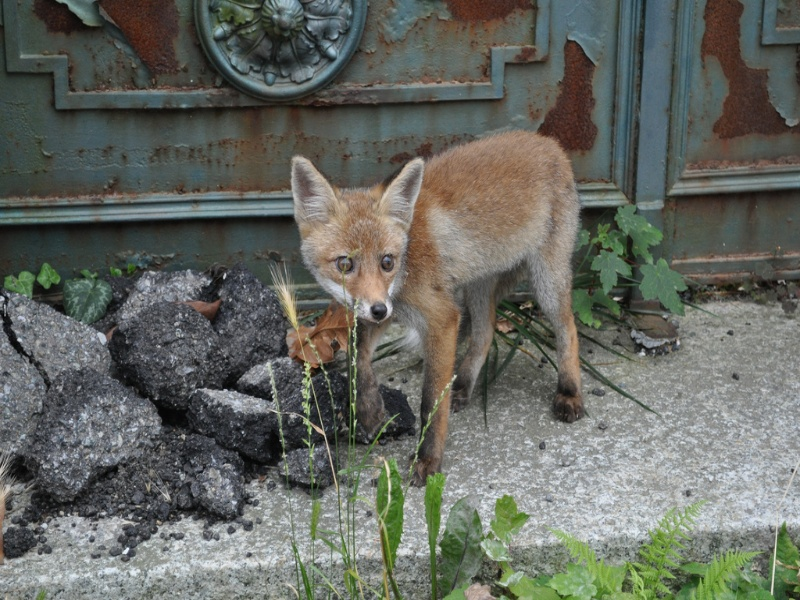fox: (284, 127, 594, 484)
